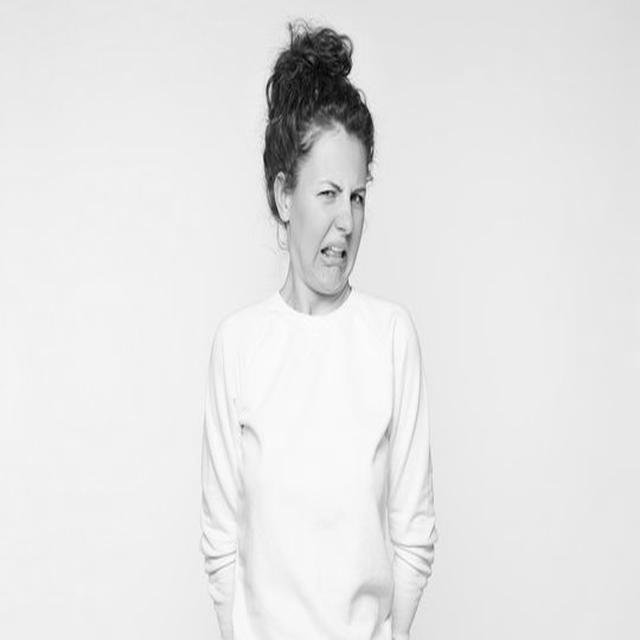Disgust: (291, 121, 368, 299)
